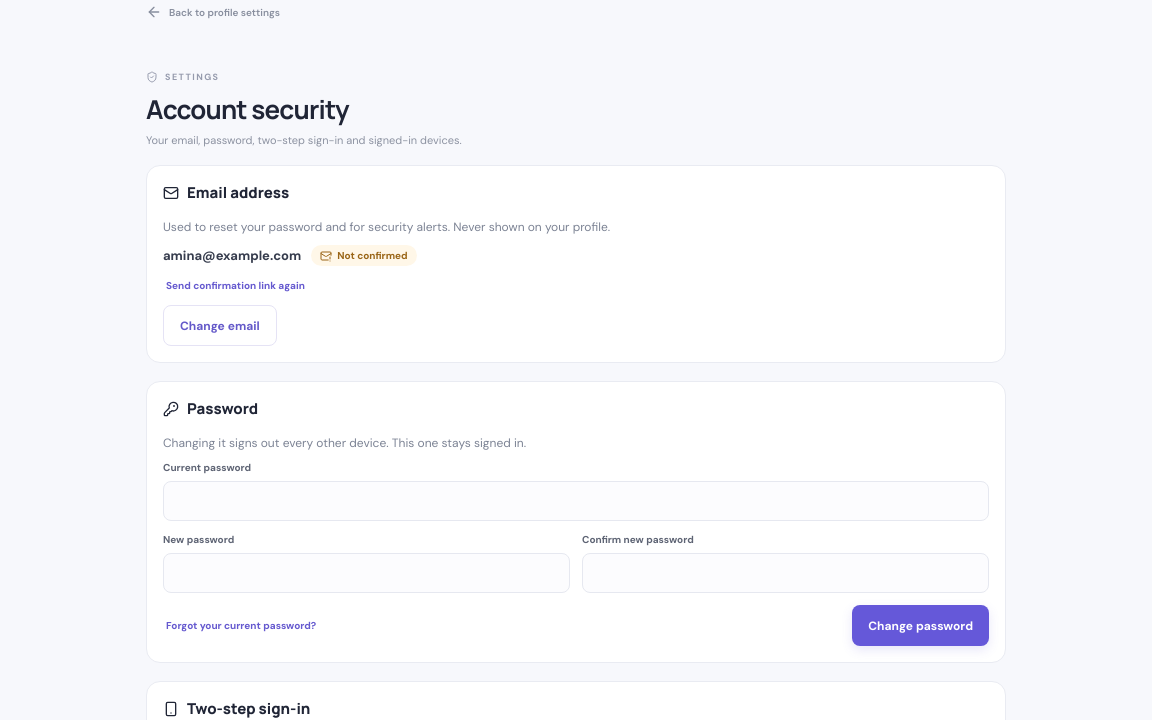
Test: AccountSecurityPage › shows the email status and resends the confirmation link
Check: the text "Not confirmed" is shown, box [311,245,417,266]
Click the button "Send confirmation link again" at (235, 286), box [163,276,989,295]
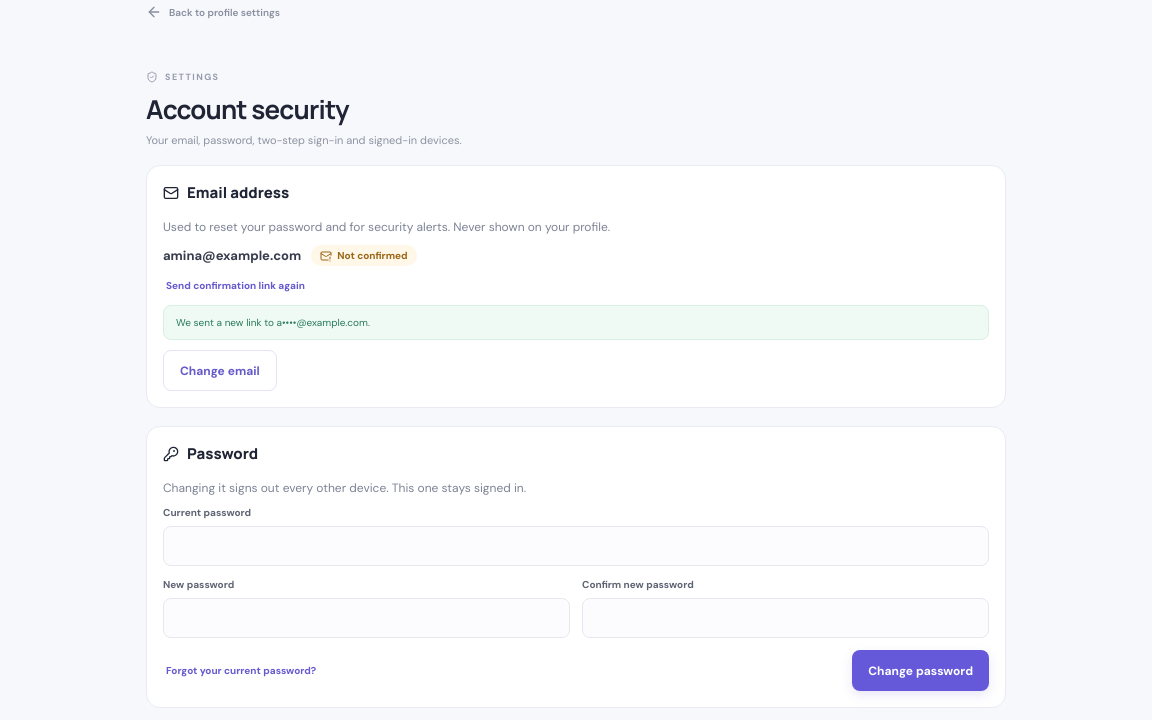
Check: the text "We sent a new link to a••••@example.com." is shown, box [163,305,989,340]
